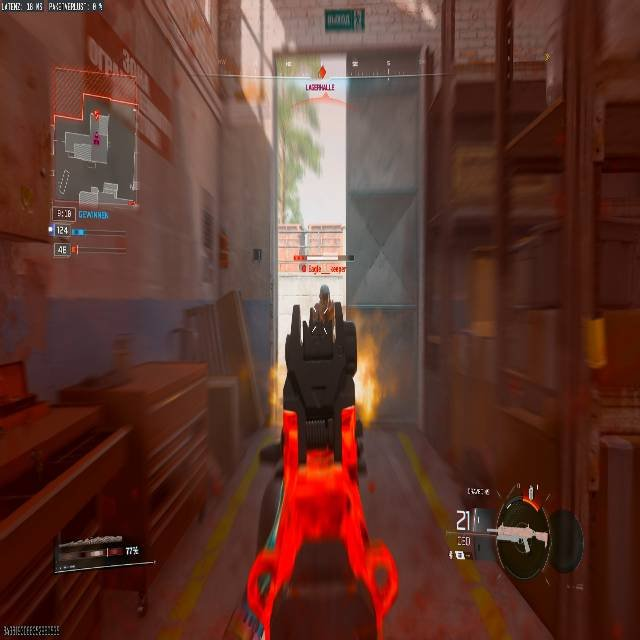head: (318, 284, 330, 302)
